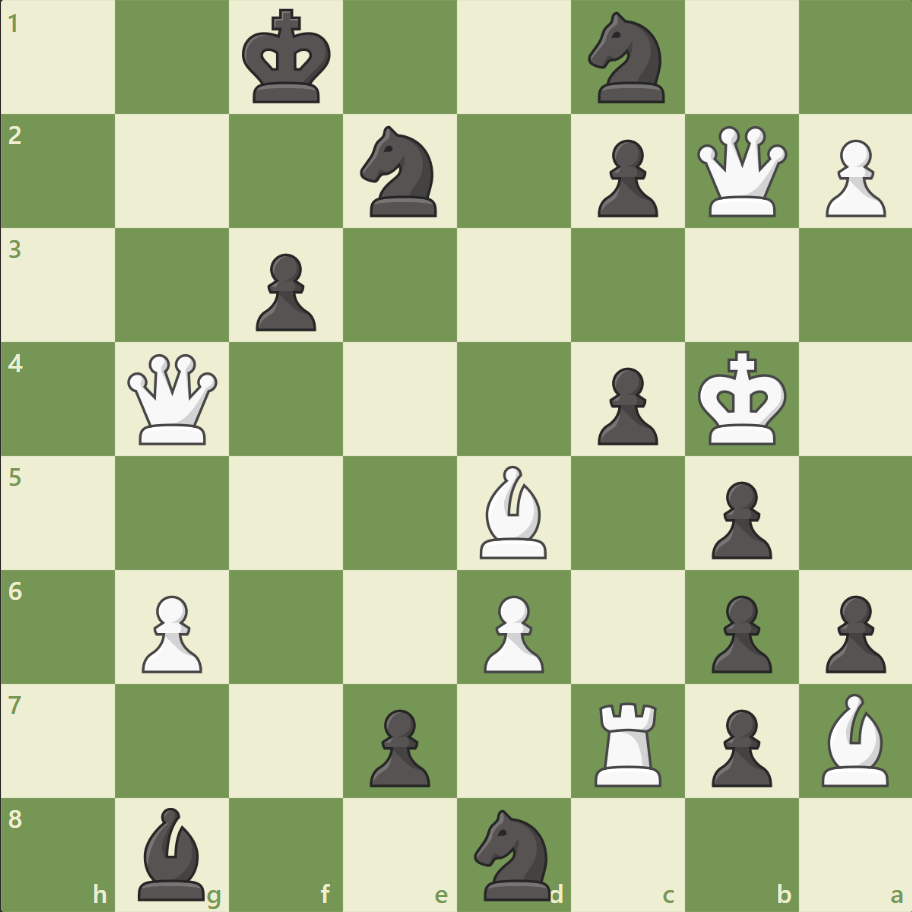B: (812, 687, 896, 790), (471, 460, 555, 563)
K: (692, 344, 792, 452)
P: (474, 586, 549, 677), (133, 586, 208, 677), (815, 132, 889, 223)
Q: (124, 349, 223, 449), (691, 122, 790, 222)
R: (587, 693, 670, 790)
b: (131, 801, 215, 904)
k: (238, 4, 338, 112)
n: (351, 121, 449, 223), (579, 7, 676, 110), (465, 802, 562, 904)
p: (701, 700, 776, 791), (701, 586, 776, 677), (701, 473, 776, 564), (247, 246, 322, 337), (361, 700, 435, 791), (815, 586, 889, 677), (588, 359, 662, 450), (588, 132, 662, 223)
